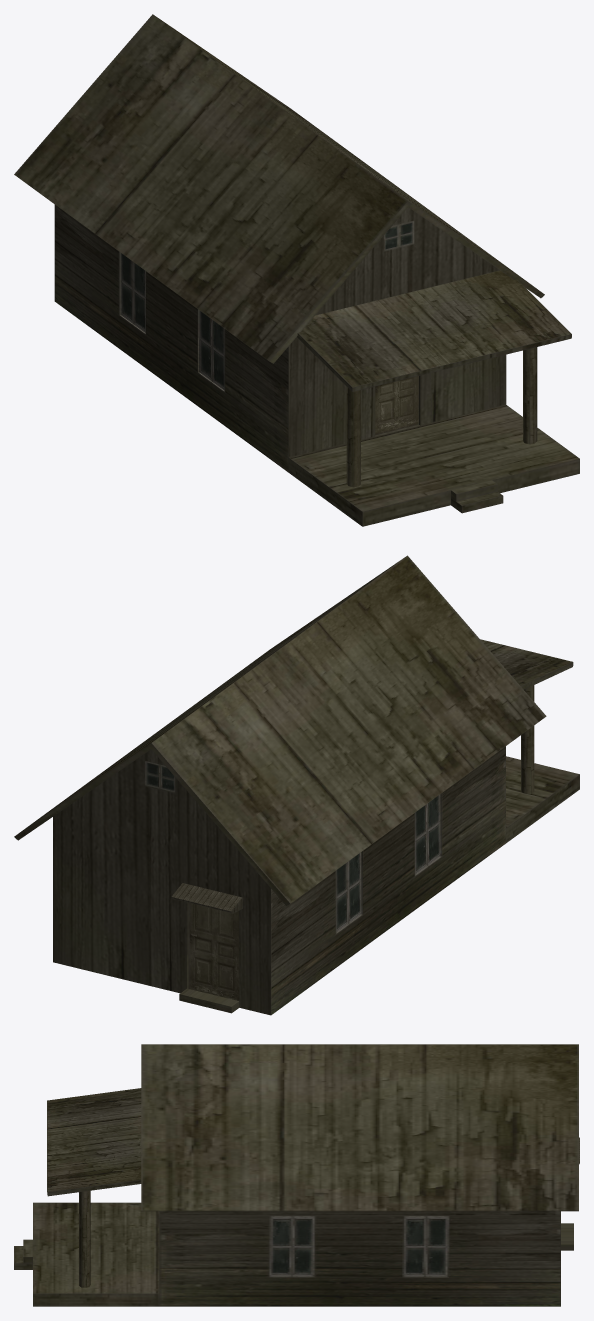
File: house.FBX
The picture shows the model from 3 angles, top to bottom: view 1: azimuth 30°, elevation 25°; view 2: azimuth 150°, elevation 25°; view 3: azimuth 270°, elevation 25°; orthographic projection. The views are drawn at different scales.
Parts seen in each view (by area): view 1: polySurface73; view 2: polySurface73; view 3: polySurface73.
Boxes of the visible parts, bbox=[...] form: polySurface73: bbox=[14, 14, 579, 526]; polySurface73: bbox=[14, 555, 579, 1015]; polySurface73: bbox=[14, 1044, 579, 1306].
Size of the model in its own units: 12.06 by 10.57 by 25.01.
Materials: 1 (1 with a texture image).
